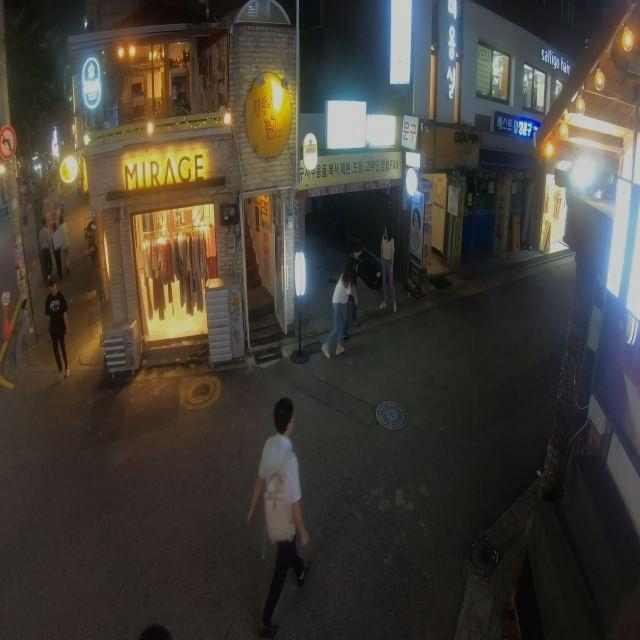fight: (325, 249, 361, 357)
non-fight: (245, 390, 313, 639), (43, 275, 70, 378), (379, 223, 401, 317)
